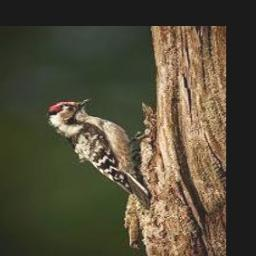Woodpecker: (46, 97, 149, 208)
